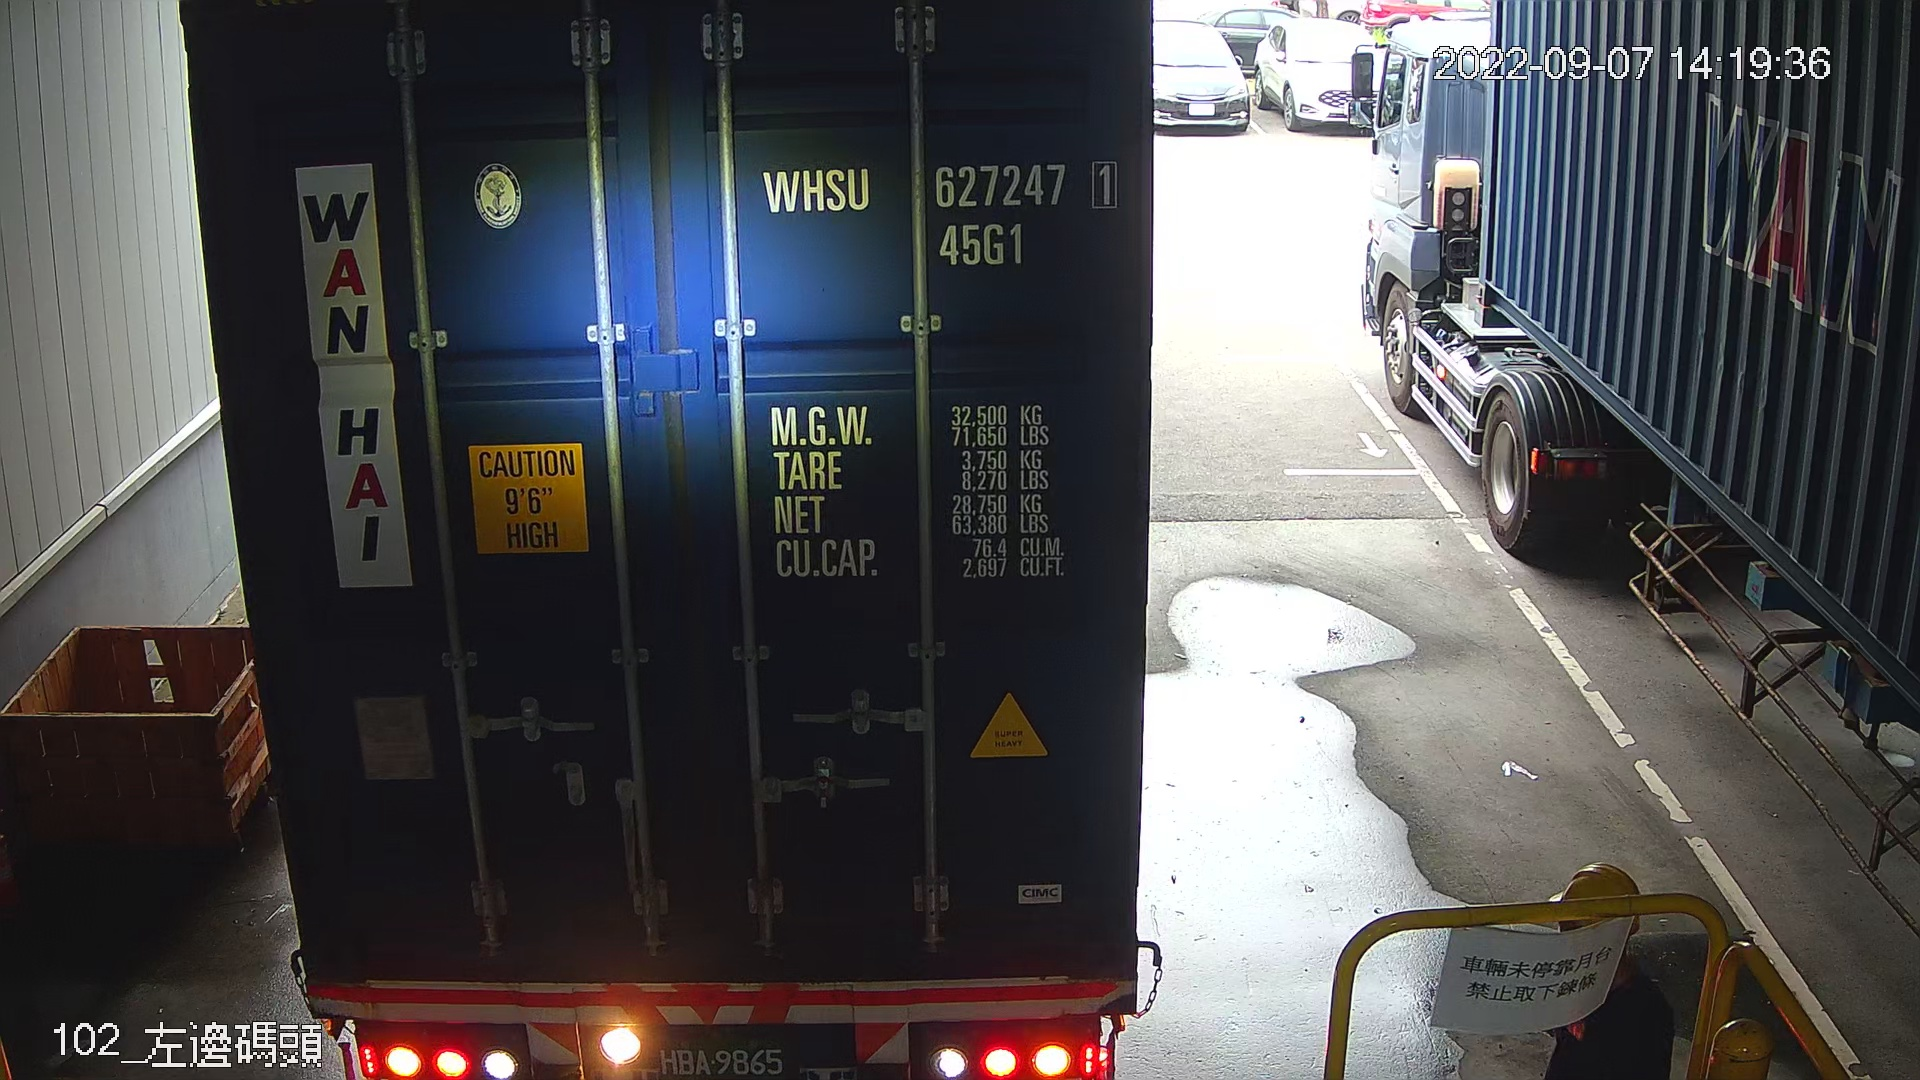container: (748, 154, 1127, 276)
